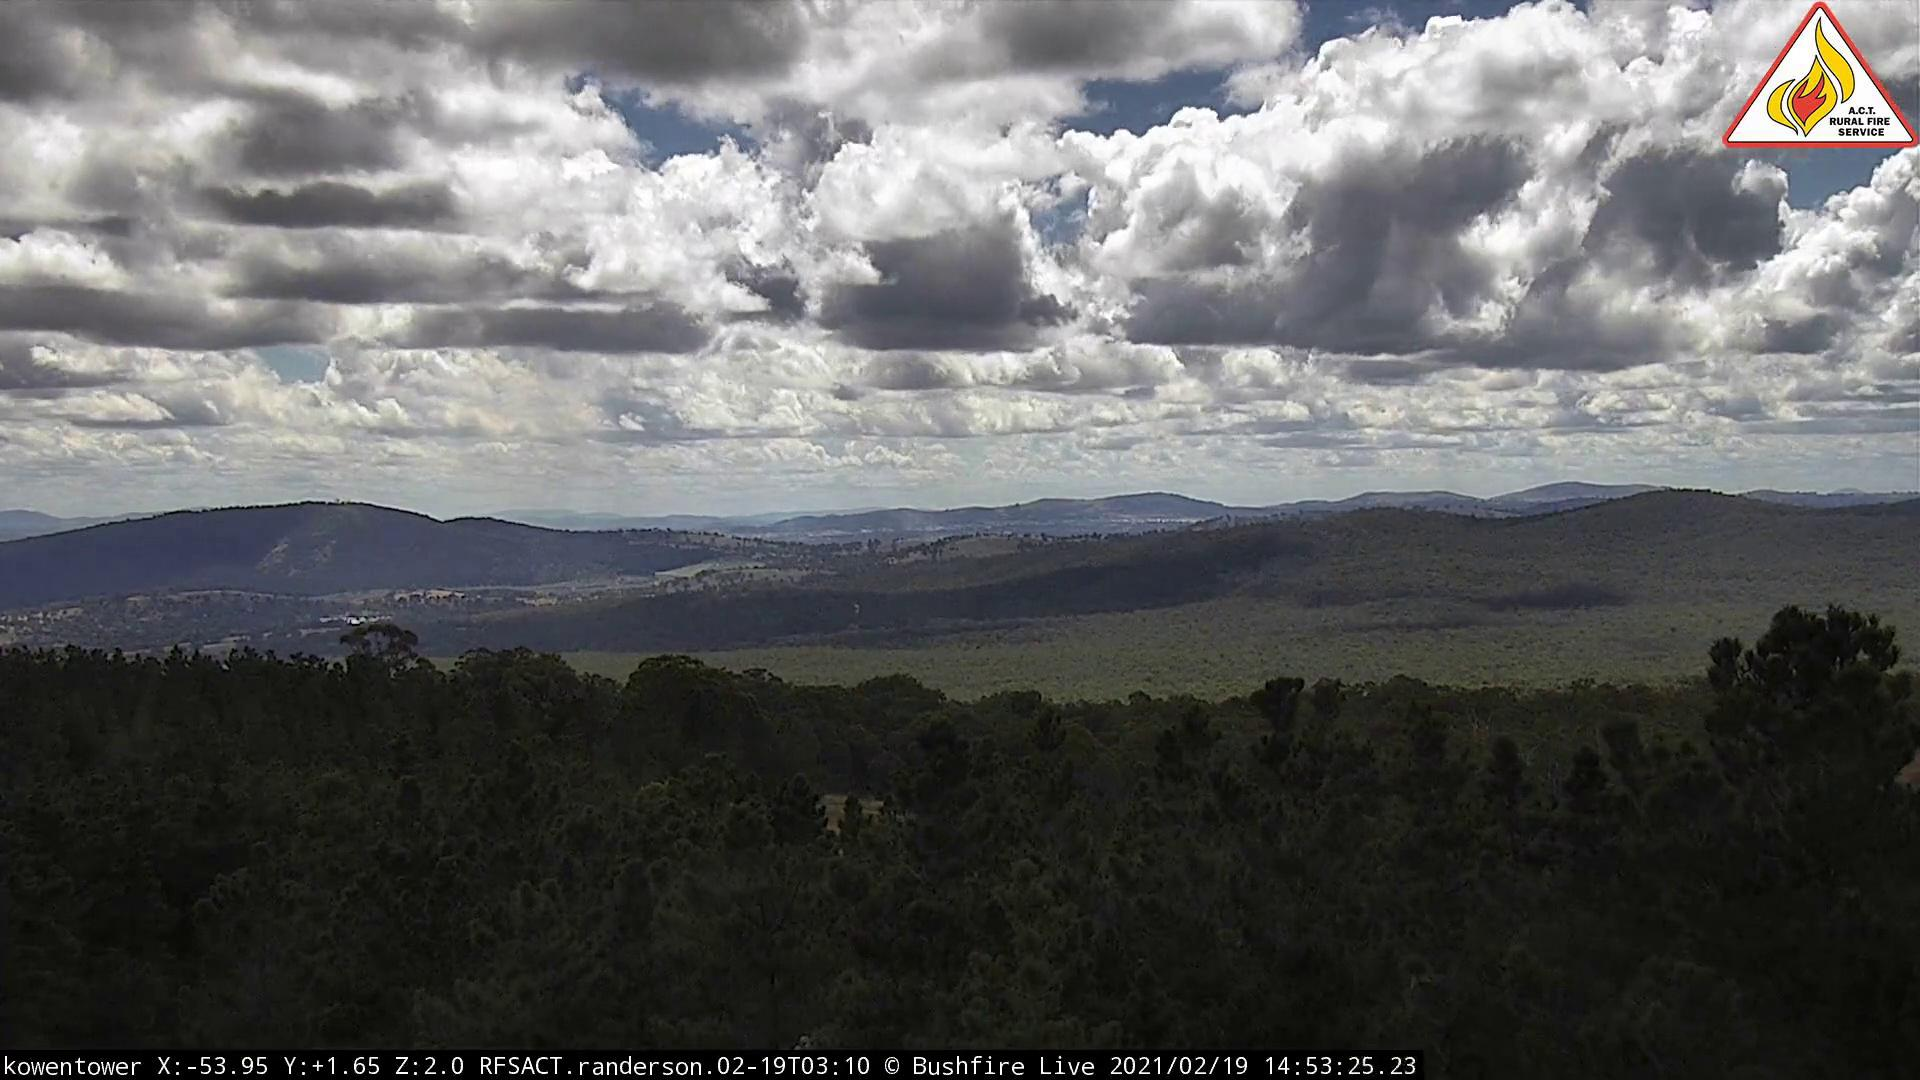Smoke: (521, 426, 968, 550)
